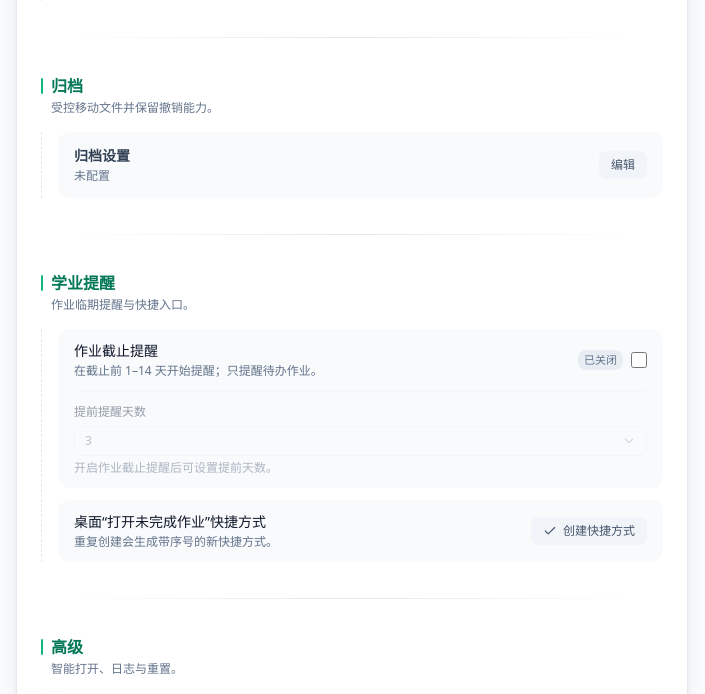
Test: SettingsPage › 学业提醒开关与桌面快捷方式
This screenshot has width=705, height=694.
(page scrolled)
Expected: the text "作业截止提醒" is shown, x1=74 y1=341 x2=158 y2=360
Expected: the button named "提前提醒天数" is disabled, x1=74 y1=426 x2=647 y2=456
Step 1. Click the checkbox named "作业截止提醒" → (639, 360), box x1=631 y1=352 x2=647 y2=368
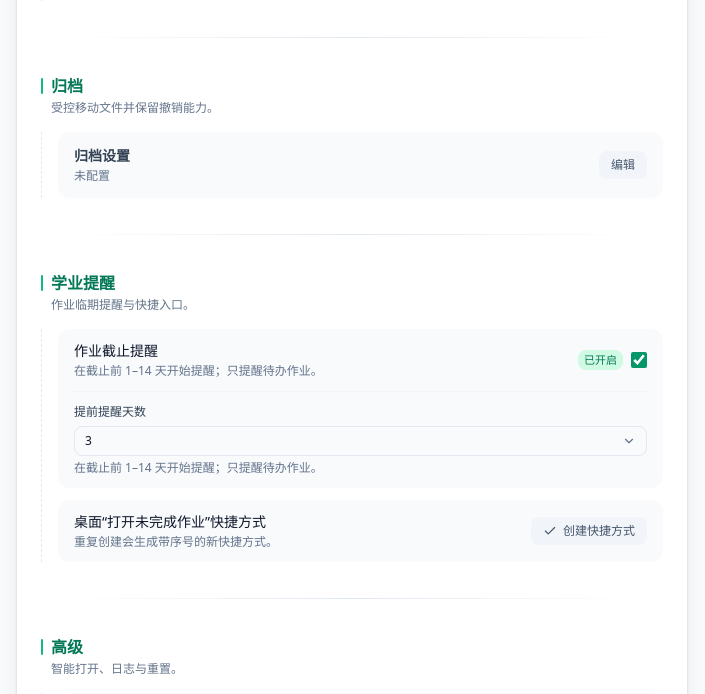
Expected: the button named "提前提醒天数" is enabled, x1=74 y1=426 x2=647 y2=456
Step 2. Click the button "创建快捷方式" → (589, 531), box x1=531 y1=517 x2=647 y2=545
(page scrolled)
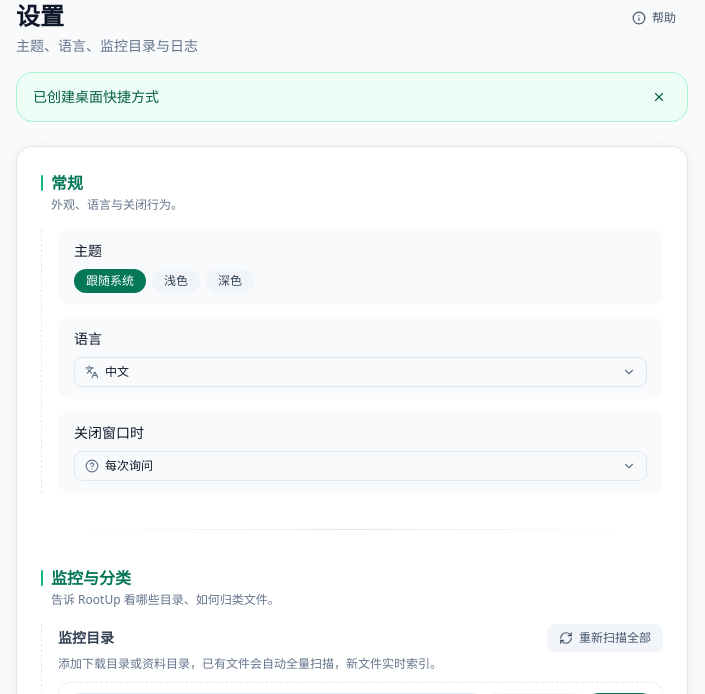
Expected: the text "已创建桌面快捷方式" is shown, x1=33 y1=87 x2=159 y2=106
